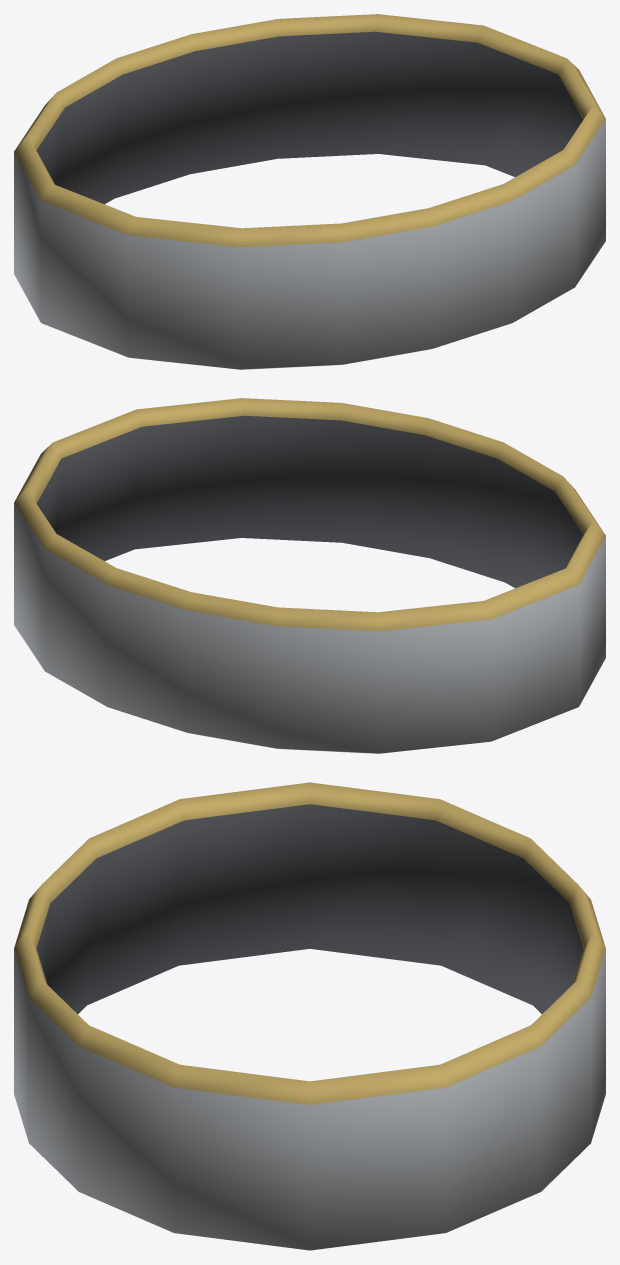
File: cookie_cutter_small.glb
3 views of the same model, one above another, from view 1: azimuth 30°, elevation 25°; view 2: azimuth 150°, elevation 25°; view 3: azimuth 270°, elevation 25° (orthographic). The views are drawn at different scales.
Parts seen in each view (by area): view 1: cookie_cutter_small; view 2: cookie_cutter_small; view 3: cookie_cutter_small.
Boxes of the visible parts, x1,y1,x2,y2 form: cookie_cutter_small: (14, 14, 605, 369); cookie_cutter_small: (14, 398, 605, 753); cookie_cutter_small: (14, 782, 605, 1250).
Bounding box in the file's own units: 0.1 × 0.025 × 0.08.
